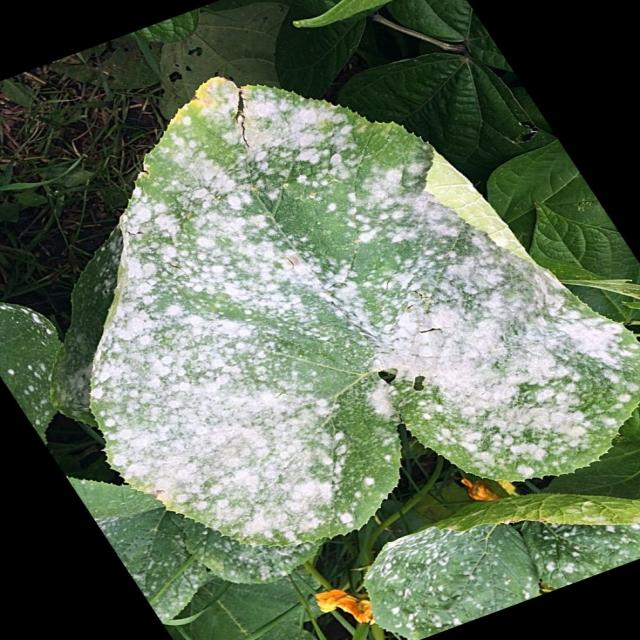Powdery Mildew: (85, 75, 638, 566)
